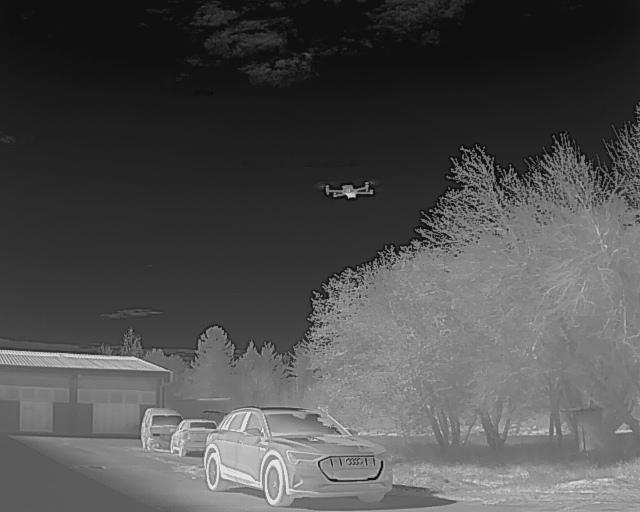drone: (312, 173, 386, 206)
